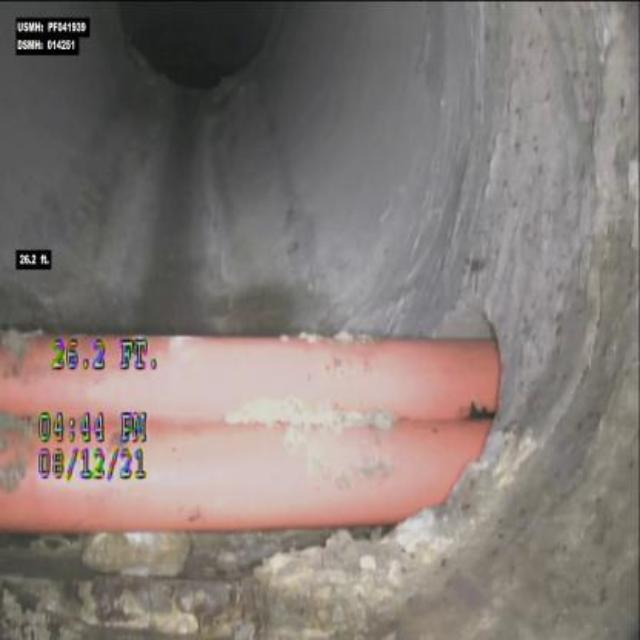Utility intrusion: (162, 292, 528, 555)
